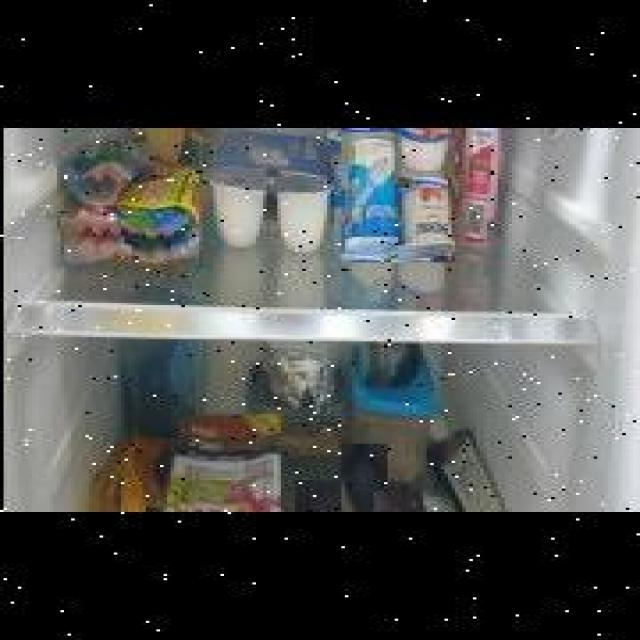avocado: (342, 444, 388, 512), (295, 480, 370, 512), (373, 491, 423, 512)
sausage: (57, 147, 199, 269)
yogurt: (342, 132, 398, 262), (400, 140, 457, 263), (391, 128, 448, 188), (334, 128, 395, 181)
